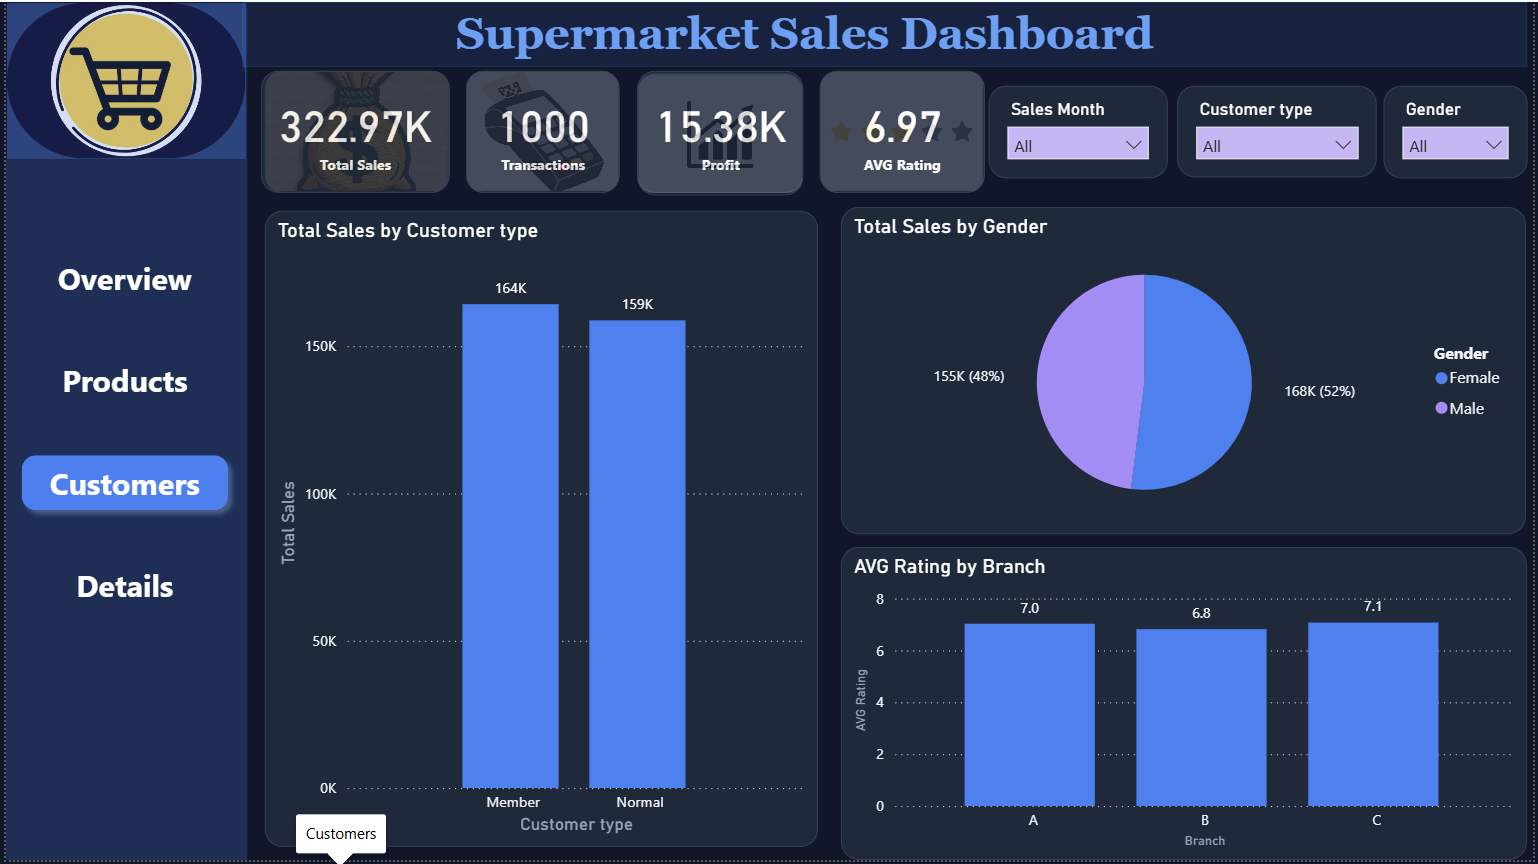

Layout of this report page (visuals, bound fields, positions):
{"tool":"powerbi","page":{"name":"Customers","canvas":[1280,720],"ordinal":2},"visuals":[{"type":"image","box":[0,0,202.3,132.6],"z":0},{"type":"shape","box":[0,0,202.3,719.8],"z":500,"group":"g1"},{"type":"textbox","box":[372,0,619,54],"z":1000},{"type":"shape","box":[197.7,0,1077.9,54.7],"z":2000},{"type":"card","fields":{"Values":["supermarket_sales.Total Revenue"]},"box":[214,58.1,158.1,102.3],"z":3000},{"type":"card","fields":{"Values":["supermarket_sales.Transactions"]},"box":[386,58.1,129.1,102.3],"z":4000},{"type":"card","fields":{"Values":["supermarket_sales.Gross Income"]},"box":[529.1,58.1,139.5,102.3],"z":5000},{"type":"card","fields":{"Values":["supermarket_sales.AVG Rating"]},"box":[682.6,58.1,138.4,102.3],"z":6000},{"type":"image","box":[217.4,58.1,154.7,102.3],"z":7000},{"type":"image","box":[386,58.1,129.1,102.3],"z":8000},{"type":"image","box":[529.1,59.3,139.5,102.3],"z":9000},{"type":"image","box":[682.6,58.1,138.4,102.3],"z":10000},{"type":"slicer","fields":{"Values":["supermarket_sales.Sales Month"]},"box":[824.4,70,150,77.9],"z":11000},{"type":"slicer","fields":{"Values":["supermarket_sales.Gender"]},"box":[1155,70,120.9,77.9],"z":12000},{"type":"slicer","fields":{"Values":["supermarket_sales.Customer type"]},"box":[982.6,70,167.4,76.7],"z":13000},{"type":"pieChart","fields":{"Category":["supermarket_sales.Gender"],"Y":["supermarket_sales.Total Revenue"]},"box":[700,172.1,574.4,274.4],"z":14000},{"type":"clusteredColumnChart","fields":{"Category":["supermarket_sales.Customer type"],"Y":["supermarket_sales.Total Revenue"]},"box":[217.4,175.6,464,533.7],"z":15000},{"type":"clusteredColumnChart","fields":{"Y":["supermarket_sales.AVG Rating"],"Category":["supermarket_sales.Branch"]},"box":[700,457,575.6,262.8],"z":16000},{"type":"group","id":"g1","title":"Group 1","box":[0,0,202.3,719.8],"z":17000},{"type":"pageNavigator","box":[4.7,198.8,191.9,324],"z":20000,"group":"g1"}]}

Visuals, with their boxes in screenshot pixels (x1, y1, x2, y2), scaled from the page's 1280x720 canvas onto the 1538x864 screenshot:
image: 0 0 243 159
shape: 0 0 243 863
textbox: 447 0 1191 65
shape: 238 0 1533 66
card - supermarket_sales.Total Revenue: 257 70 447 192
card - supermarket_sales.Transactions: 464 70 619 192
card - supermarket_sales.Gross Income: 636 70 803 192
card - supermarket_sales.AVG Rating: 820 70 986 192
image: 261 70 447 192
image: 464 70 619 192
image: 636 71 803 194
image: 820 70 986 192
slicer - supermarket_sales.Sales Month: 991 84 1171 177
slicer - supermarket_sales.Gender: 1388 84 1533 177
slicer - supermarket_sales.Customer type: 1181 84 1382 176
pieChart - supermarket_sales.Gender x supermarket_sales.Total Revenue: 841 207 1531 536
clusteredColumnChart - supermarket_sales.Customer type x supermarket_sales.Total Revenue: 261 211 819 851
clusteredColumnChart - supermarket_sales.AVG Rating x supermarket_sales.Branch: 841 548 1533 863
"Group 1" group: 0 0 243 863
pageNavigator: 6 239 236 627
